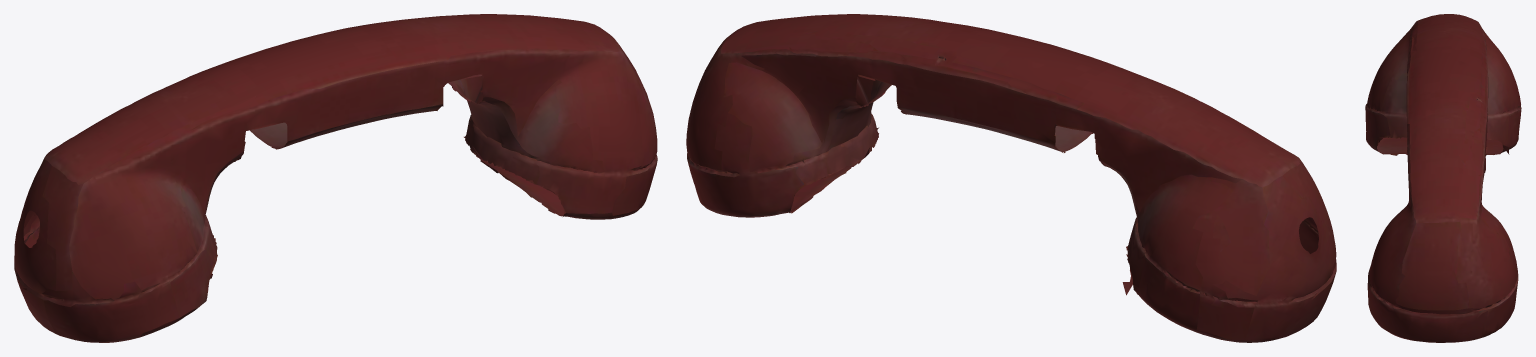
3 renders of one model, left to right at view 1: azimuth 30°, elevation 25°; view 2: azimuth 150°, elevation 25°; view 3: azimuth 270°, elevation 25°, orthographic. The views are drawn at different scales.
Parts seen in each view (by area): view 1: world; view 2: world; view 3: world.
Part boxes in pixels (x1,y1,x2,y2): world: (14, 14, 657, 342); world: (686, 14, 1336, 342); world: (1365, 14, 1521, 342).
Bounding box in the file's own units: 0.2066 × 0.068 × 0.0594.
1 material, 1 textured.
